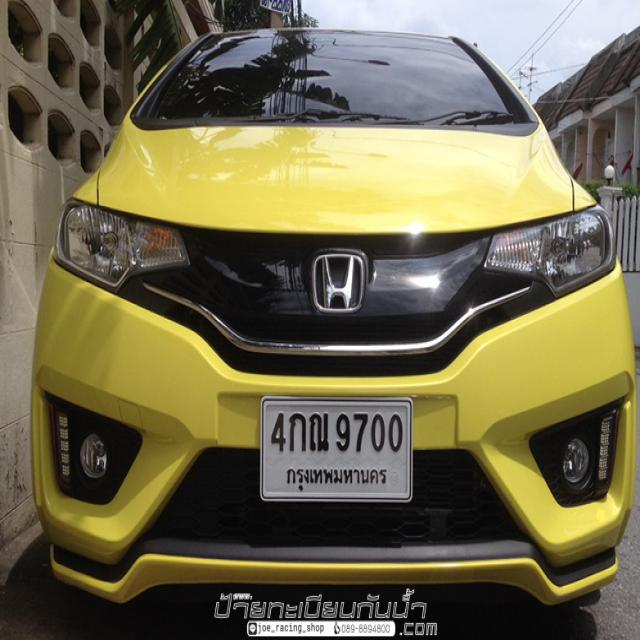license_plate: (260, 393, 414, 502)
